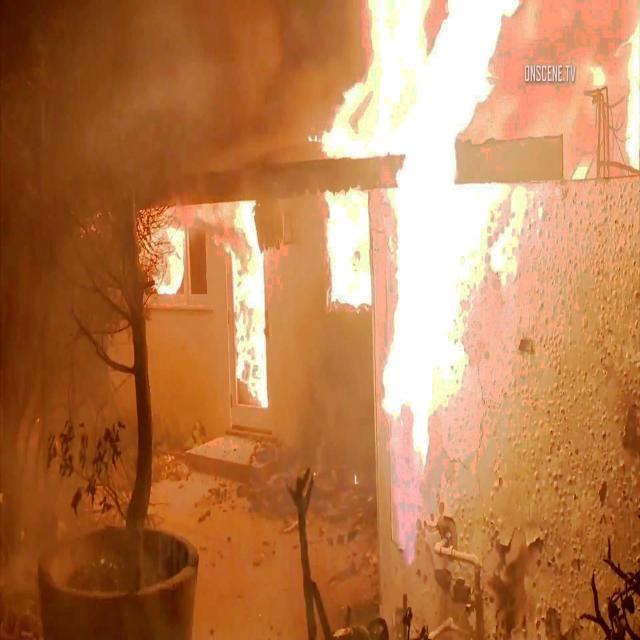Fire: (328, 11, 513, 330), (225, 208, 272, 398), (146, 209, 183, 292)
